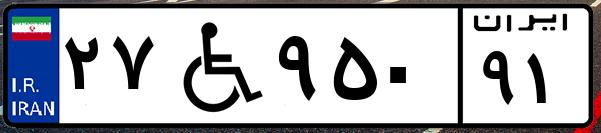0: (385, 28, 445, 110)
1: (525, 38, 570, 115)
2: (57, 26, 110, 100)
5: (330, 28, 385, 110)
7: (110, 28, 158, 98)
9: (270, 28, 330, 110), (475, 38, 525, 113)
ژ (معلولین و جانبازان): (158, 12, 270, 120)
